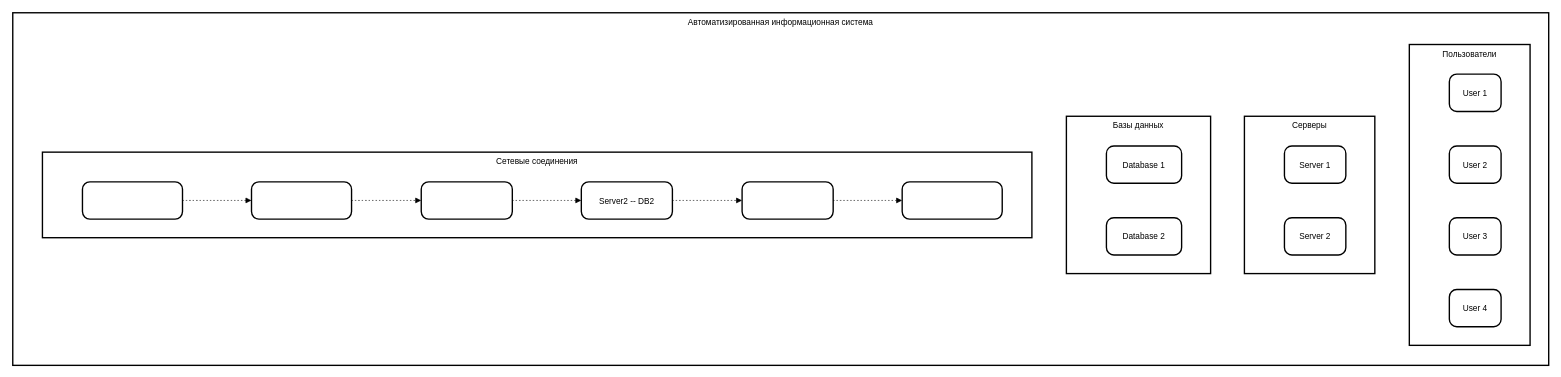
The diagram is 1561 pixels wide and 377 high, and some of its shapes have lost their labels. Here are the shapes that lost their labels. From the top down, the centre of each, then its label:
At (x=132, y=200): "User1 -- Server1".
At (x=301, y=200): "User2 -- Server1".
At (x=466, y=200): "Server1 -- DB1".
At (x=787, y=200): "DB1 -- Server2".
At (x=952, y=200): "Server2 -- User4".
